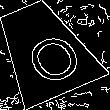O_NW: (9, 18, 80, 83)
